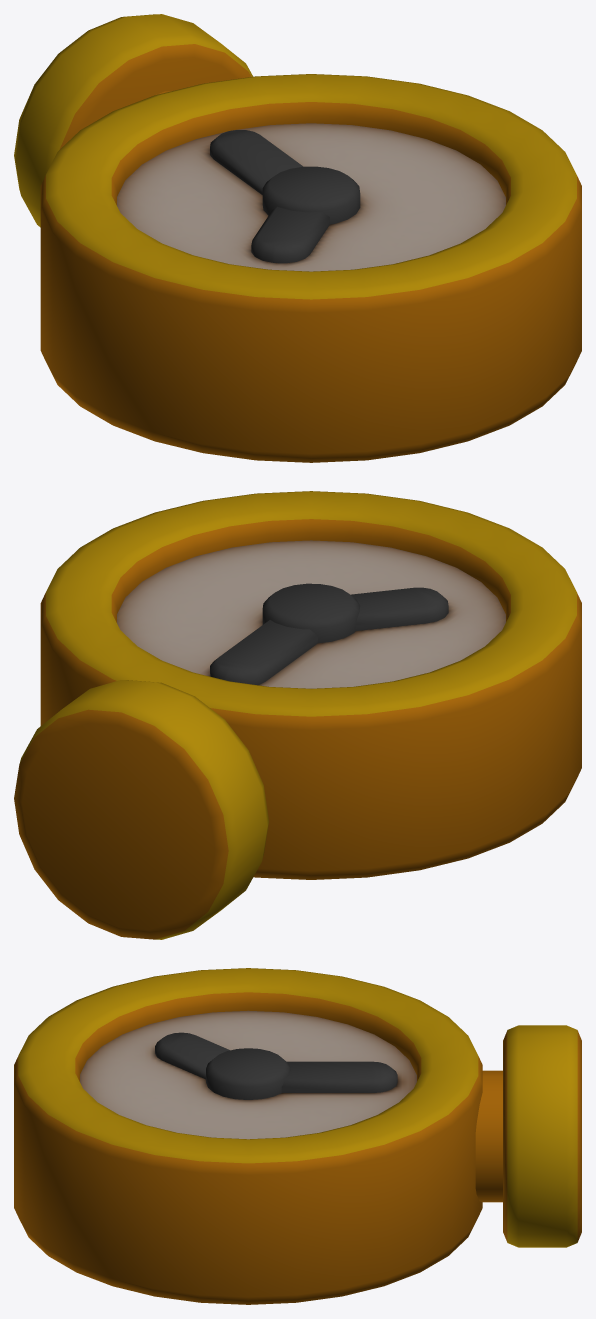
The model's file is Timer.glb.
3 renders of one model, top to bottom at view 1: azimuth 30°, elevation 25°; view 2: azimuth 150°, elevation 25°; view 3: azimuth 270°, elevation 25°, orthographic. The views are drawn at different scales.
Parts seen in each view (by area): view 1: geometry_0; view 2: geometry_0; view 3: geometry_0.
Boxes of the visible parts, x1,y1,x2,y2 form: geometry_0: [14, 14, 581, 462]; geometry_0: [14, 491, 581, 939]; geometry_0: [14, 968, 581, 1304].
Size of the model in its own units: 1.55 by 0.735 by 1.87.
1 material, 1 textured.
